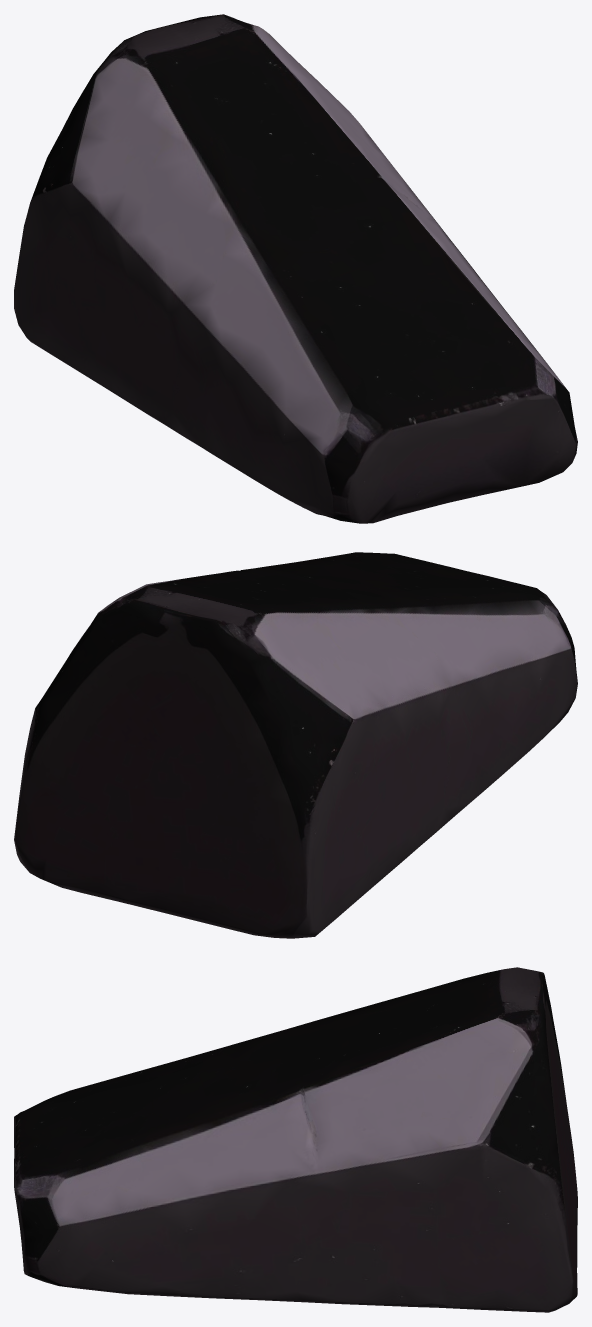
Rendered from obsidian-blade.glb.
3 views of the same model, one above another, from view 1: azimuth 30°, elevation 25°; view 2: azimuth 150°, elevation 25°; view 3: azimuth 270°, elevation 25° (orthographic). The views are drawn at different scales.
Visible parts, largest first — view 1: tripo_node_8ba9f833-33a2-4e38-b4a7-9847847d5cf2; view 2: tripo_node_8ba9f833-33a2-4e38-b4a7-9847847d5cf2; view 3: tripo_node_8ba9f833-33a2-4e38-b4a7-9847847d5cf2.
Part boxes in pixels (x1,y1,x2,y2): tripo_node_8ba9f833-33a2-4e38-b4a7-9847847d5cf2: [14, 14, 577, 523]; tripo_node_8ba9f833-33a2-4e38-b4a7-9847847d5cf2: [14, 552, 577, 938]; tripo_node_8ba9f833-33a2-4e38-b4a7-9847847d5cf2: [14, 967, 577, 1312].
Size of the model in its own units: 0.5345 by 0.4992 by 0.9802.
1 material, 1 textured.
